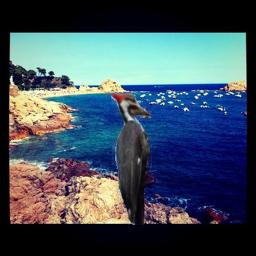Woodpecker: (111, 93, 153, 225)
